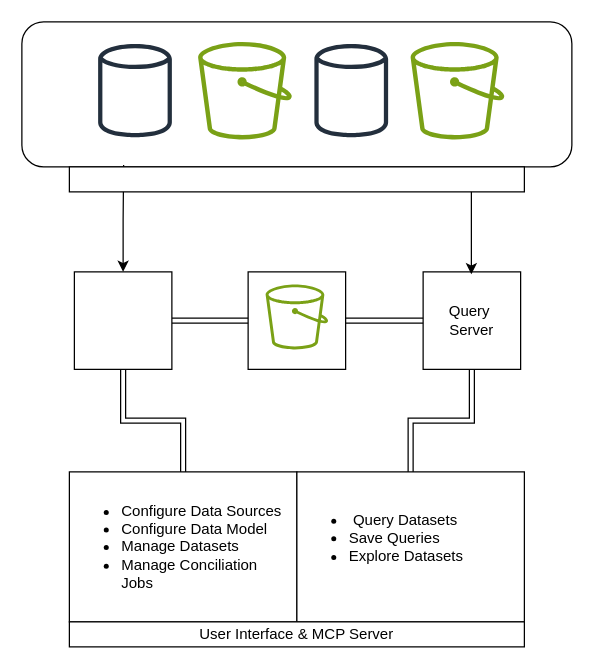
Image size: 594x669. Some labels were removed from this diagram. The centre of each missing label's shape, as x and y in pixels:
Data Sources: SQL, PostgresSQL, MongoDB, and Object Storage: the point at 296,179
Dataset Engine: the point at 122,320
